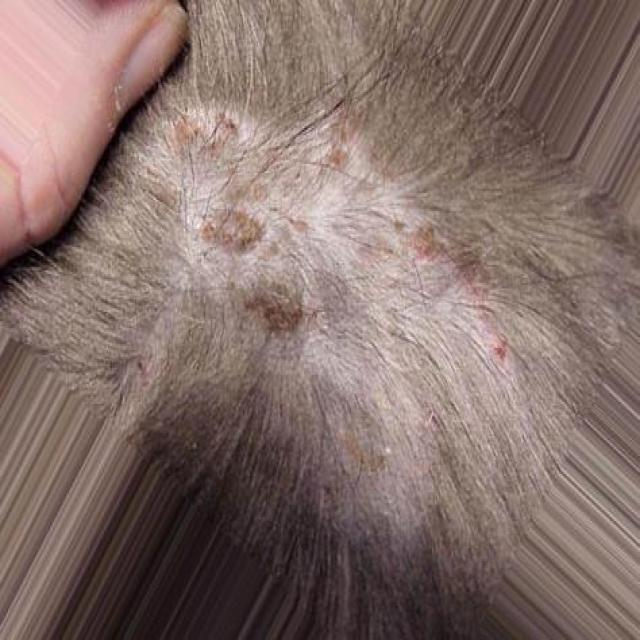di ung bo chet: (84, 136, 510, 393)
